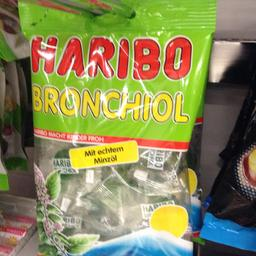candy: (20, 0, 212, 248)
